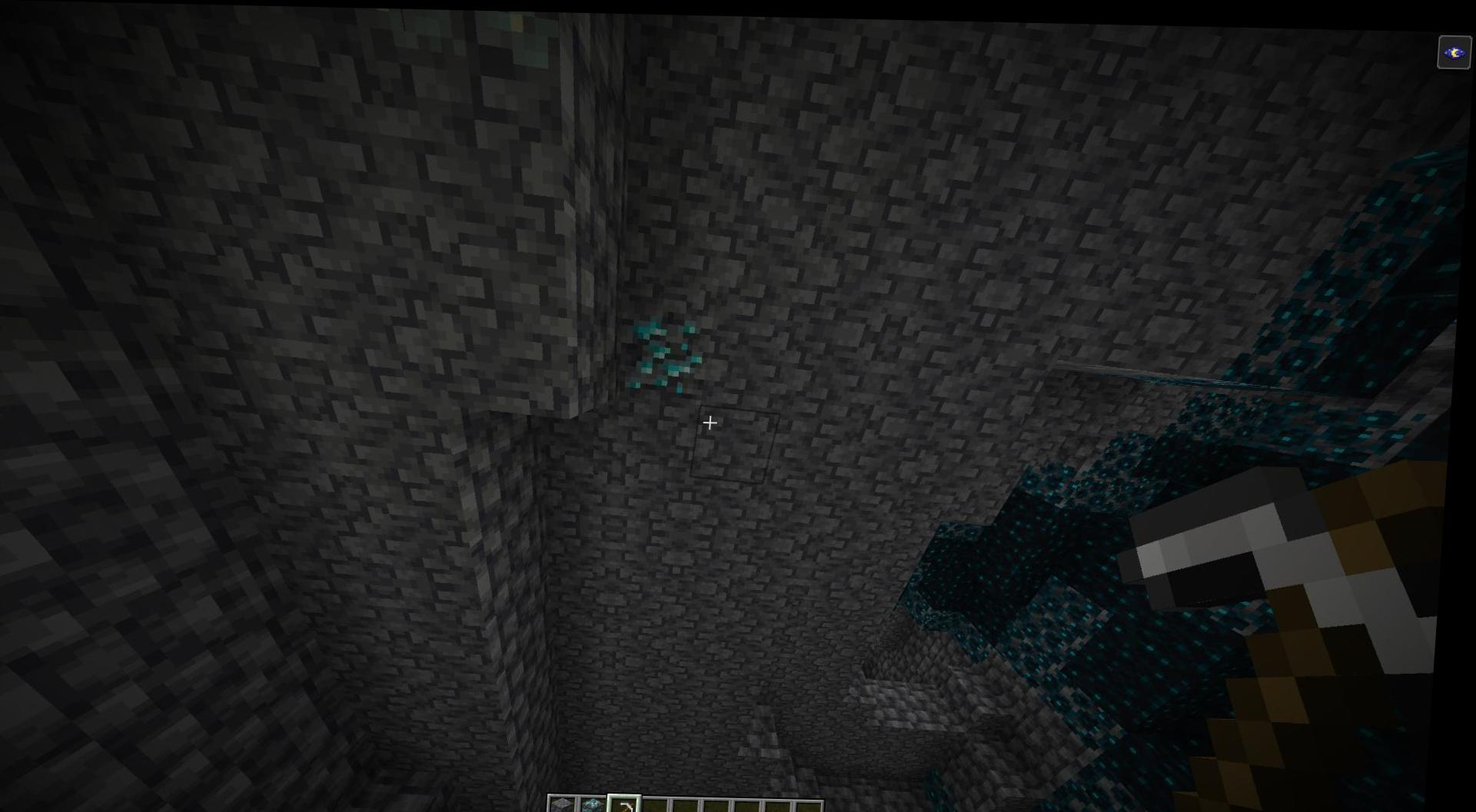diamond ore: (619, 310, 716, 392)
